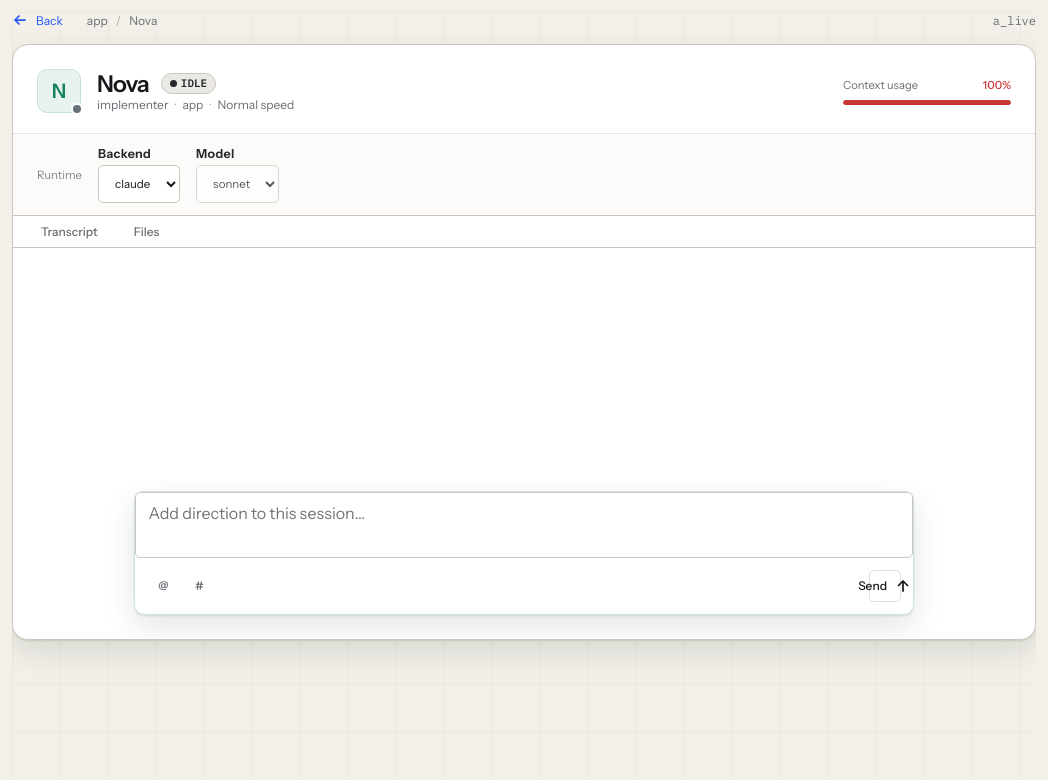
it: ChatPanel runtime picker › keeps an unavailable current runtime visible until a listed target is chosen
The width and height of the screenshot is (1048, 780).
Expected: the dropdown labelled "Model" shows "sonnet", 196,165 -> 279,203
Expected: the button "Switch" is not shown
Select "Codex" in the dropdown labelled "Backend" at (139, 184), box 98,165 -> 180,203
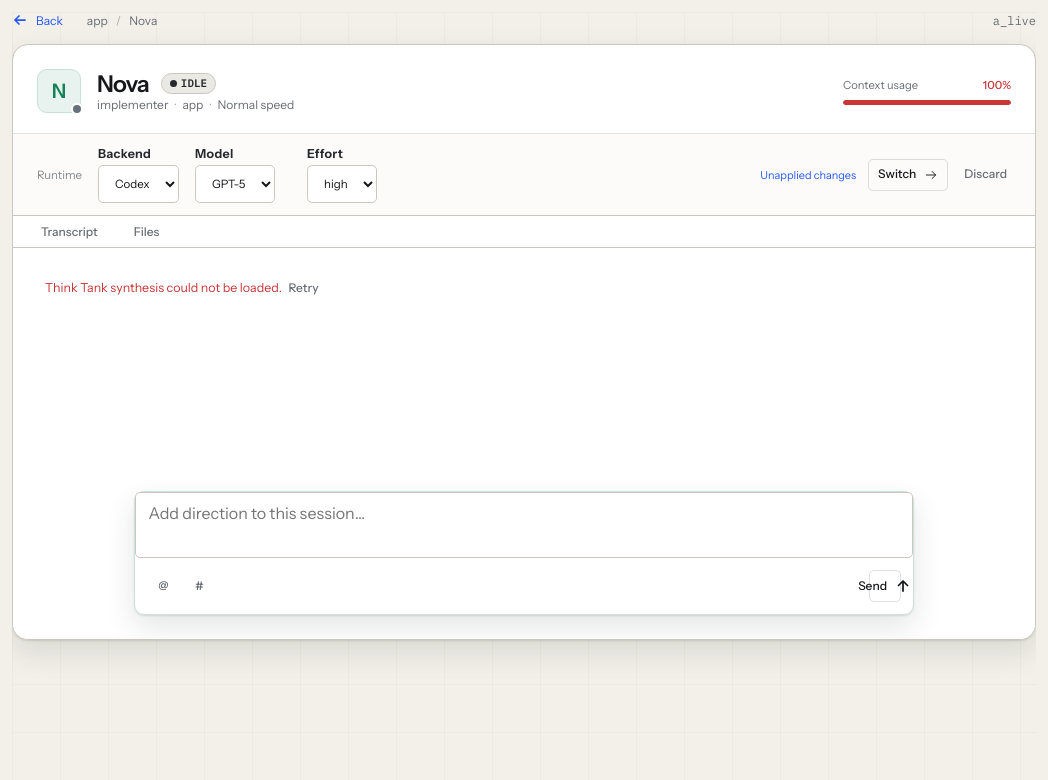
Expected: the button "Switch" is enabled, 868,158 -> 948,190
